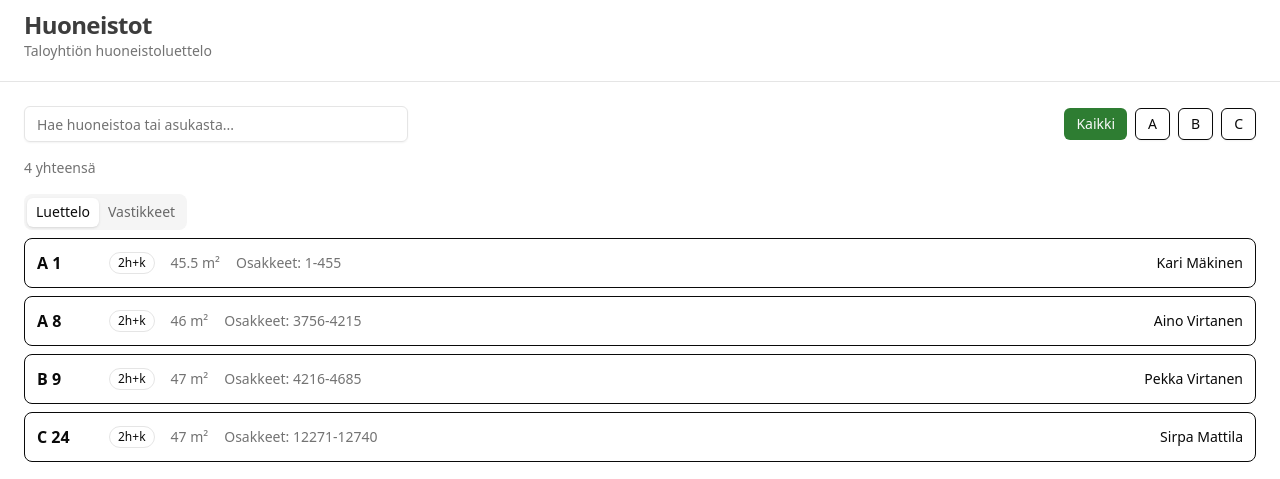
Test case: ApartmentsPage › shows empty state when no results
expect the text "A 1" is shown: met, box [37,252,61,274]
Type "zzzzzzz" into the field with placeholder "Hae huoneistoa tai asukasta..." at point(216, 124), box [24,106,408,142]
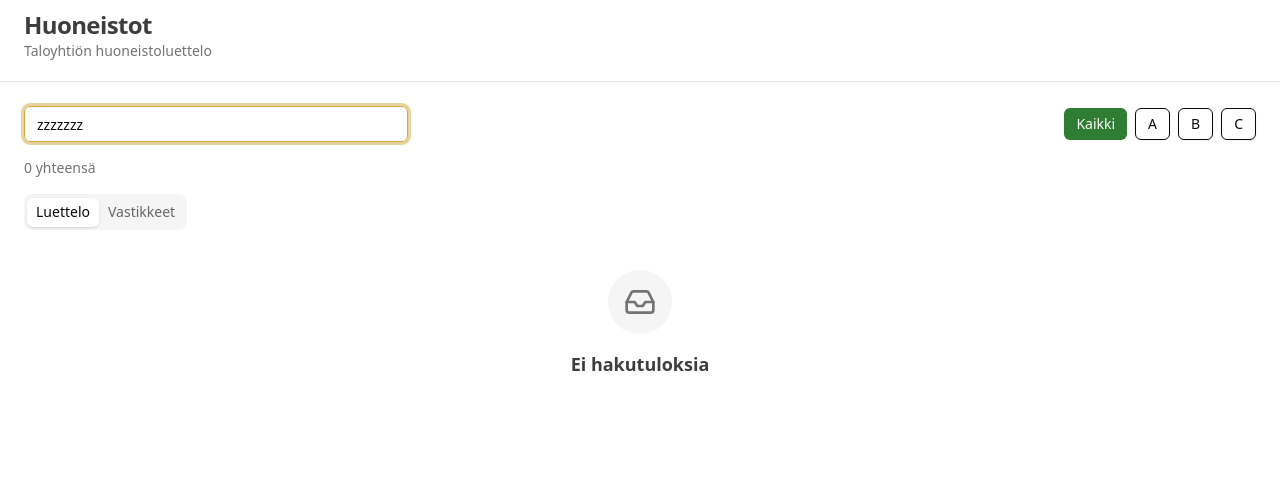
expect the heading "Ei hakutuloksia" is shown: met, box [571,350,709,378]
